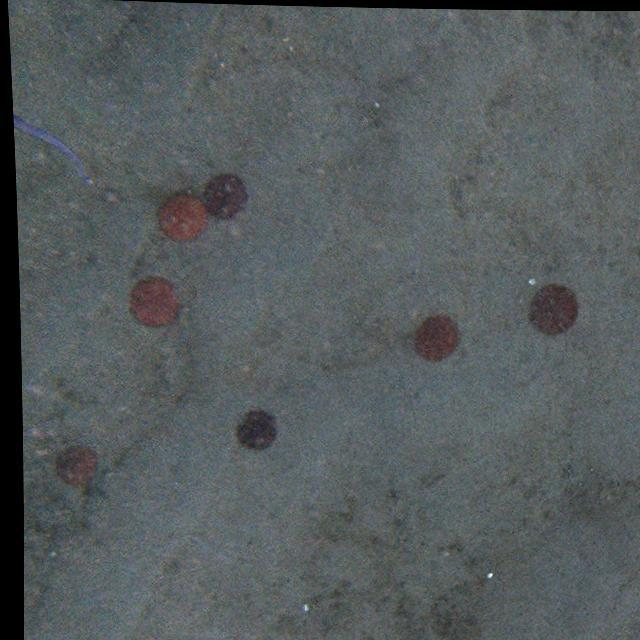roundfish: (14, 114, 88, 182)
